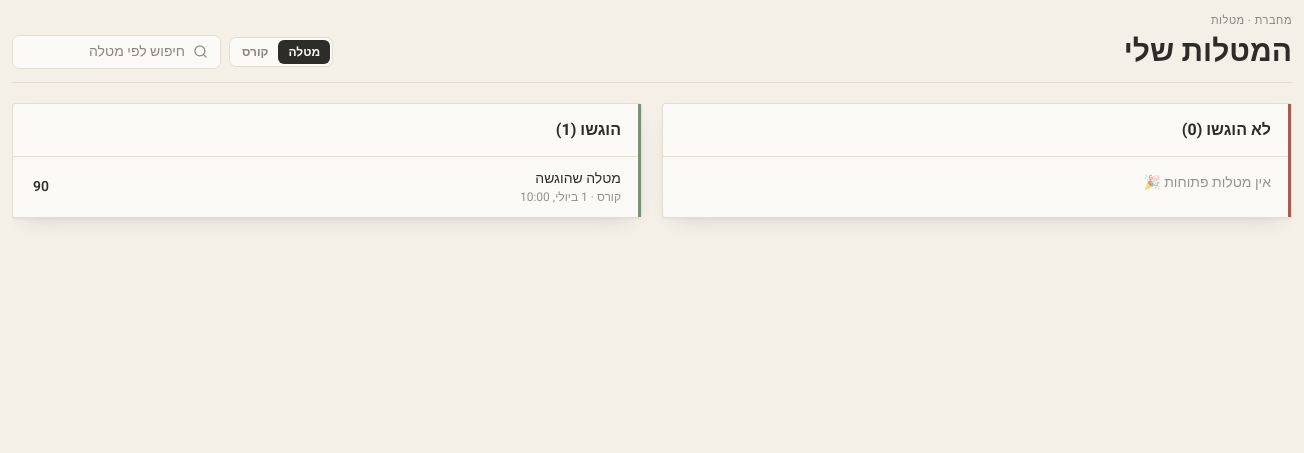
Test: AssignmentsPage › expands a graded submission to reveal both scores, feedback and checklist
The width and height of the screenshot is (1304, 453).
Check: the text "עבודה מצוינת" is not shown
Click the text "מטלה שהוגשה".
click(578, 178)  # box [535,168,621,189]
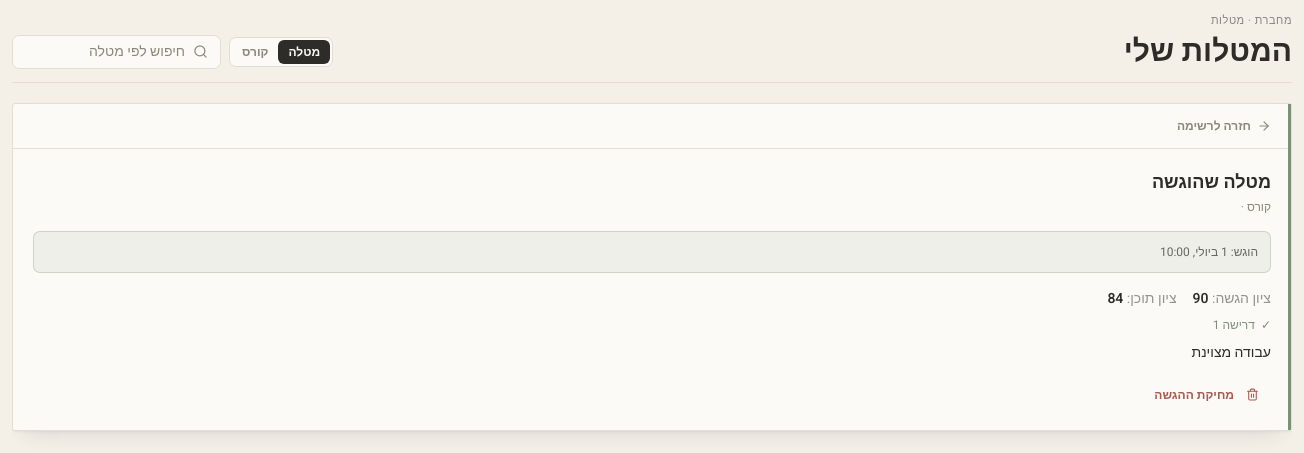
Check: the text "עבודה מצוינת" is shown, box [1192,342,1271,363]
Check: the text "דרישה 1" is shown, box [1213,316,1255,334]
Check: the text "ציון הגשה:" is shown, box [1208,288,1271,309]
